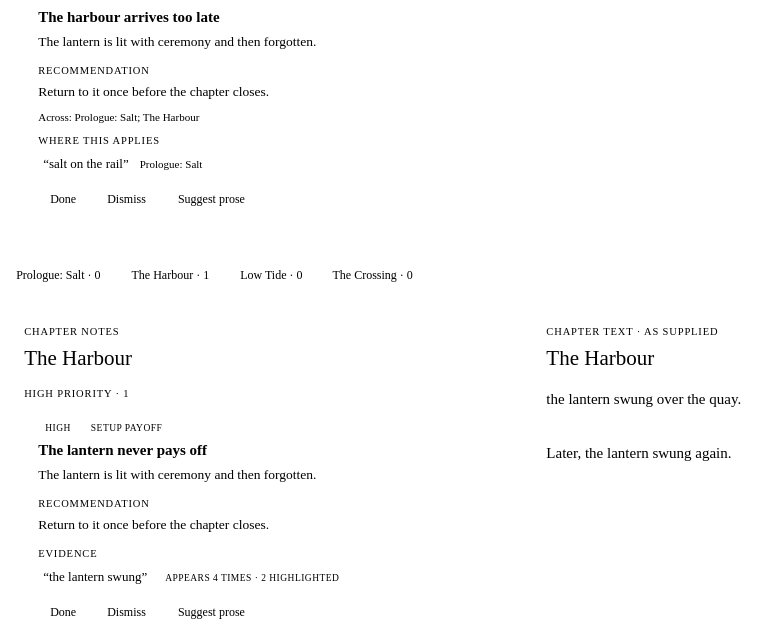
NotesScreen · results › marks a note Done from the PATCH response without refetching the run
(page scrolled)
Expected: the text "The lantern never pays off" is shown, [38,442,207,458]
Click the button "Done" below "appears 4 times · 2 highlighted". click: click(63, 613)
box: [38,598,88,628]
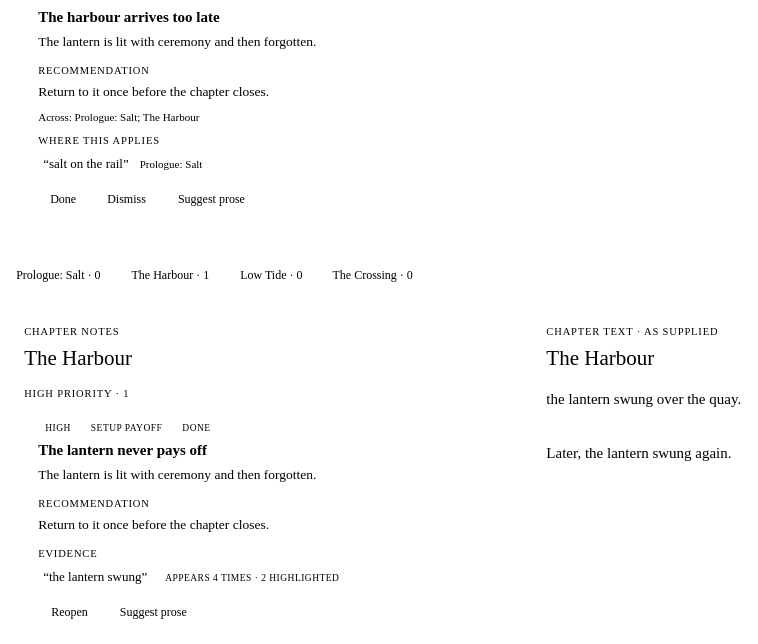
Result: the button "Reopen" is shown at [38,598,101,628]
